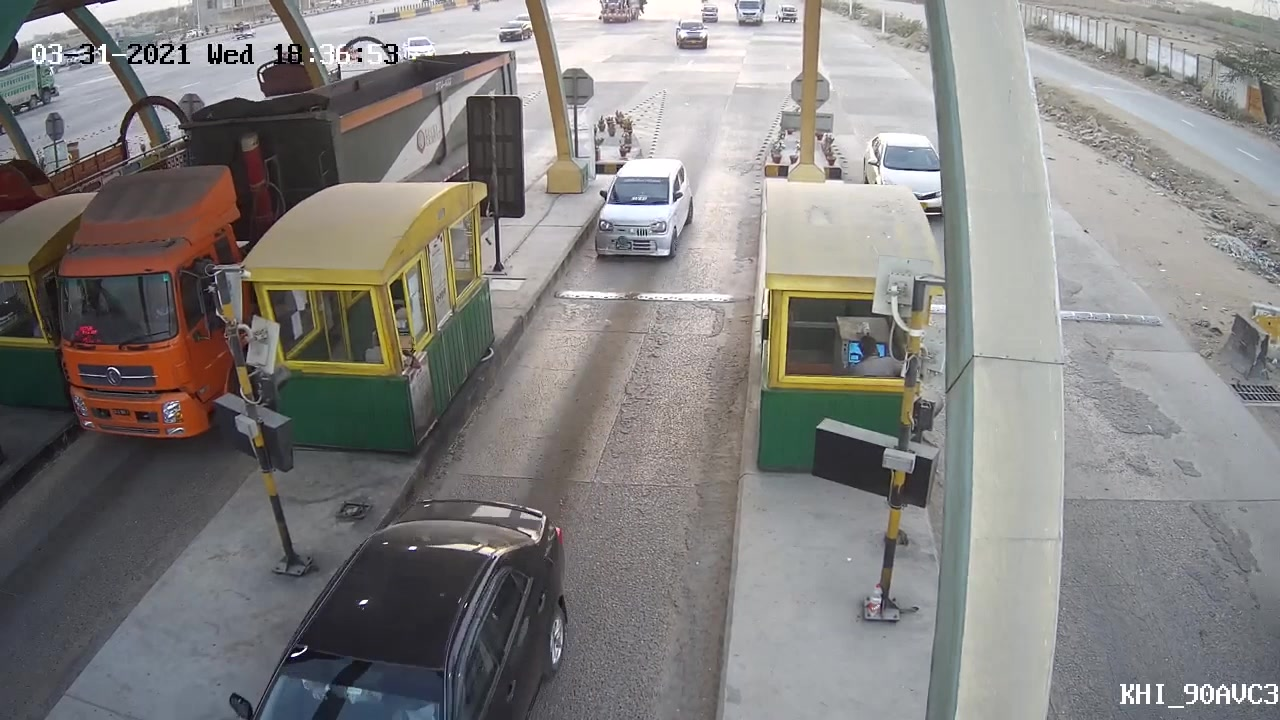F1: (585, 149, 704, 271)
